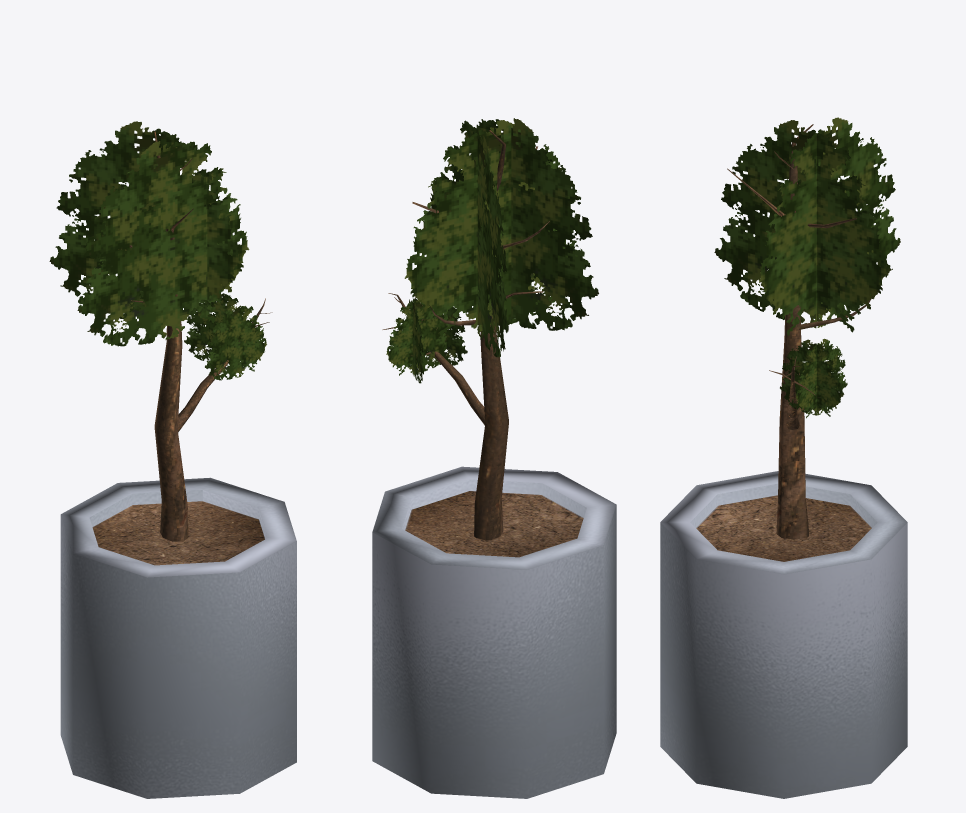
File: DecorativePlant1.fbx
3 renders of one model, left to right at view 1: azimuth 30°, elevation 25°; view 2: azimuth 150°, elevation 25°; view 3: azimuth 270°, elevation 25°, orthographic. The views are drawn at different scales.
Parts seen in each view (by area): view 1: DecorativeTree1; view 2: DecorativeTree1; view 3: DecorativeTree1.
Part boxes in pixels (left/top/right/bottom): DecorativeTree1: left=49, top=121, right=296, bottom=798; DecorativeTree1: left=372, top=118, right=616, bottom=798; DecorativeTree1: left=660, top=117, right=907, bottom=798.
Size of the model in its own units: 50.25 by 119 by 47.12.
Materials: 3 (3 with a texture image).
